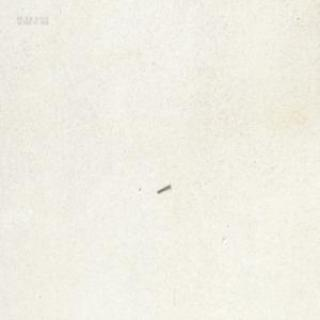Bolttrack_idkeyframe: (156, 182, 170, 192)
